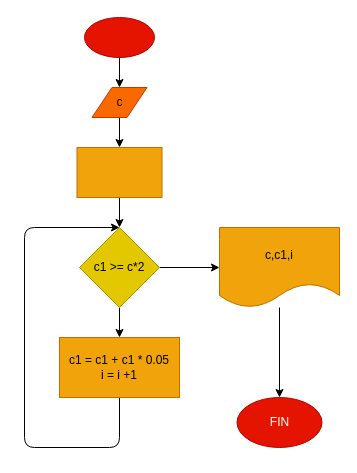
Image size: 357x473. Some labels were removed from this diagram. The shapes that lost their labels are listed below. From the top down, each one's box as (x1, y1, x2, y2) in pixels, then its label:
(84, 16, 154, 58): INICIO
(76, 146, 162, 198): i = 0 c1 = c
